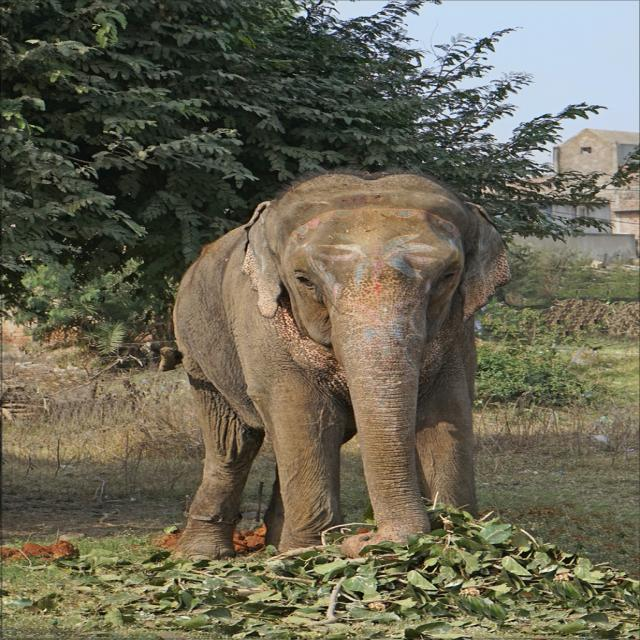elephant: (163, 165, 506, 564)
